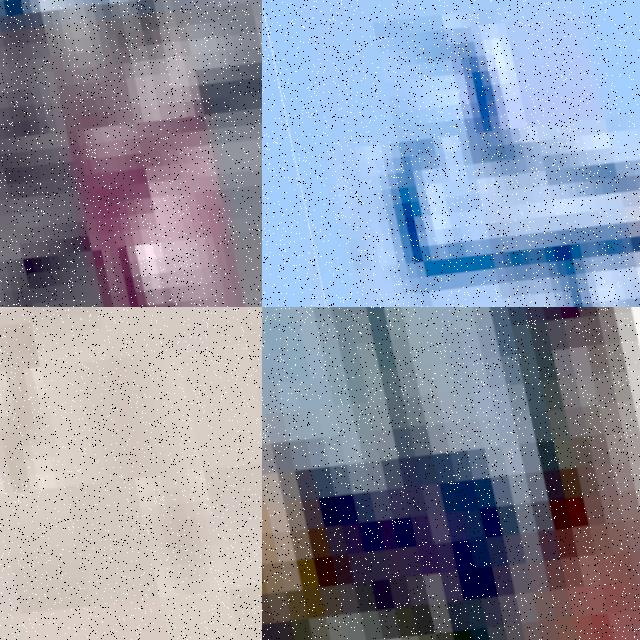drone: (262, 307, 640, 640), (262, 0, 640, 307), (0, 307, 262, 640), (0, 0, 262, 307)
